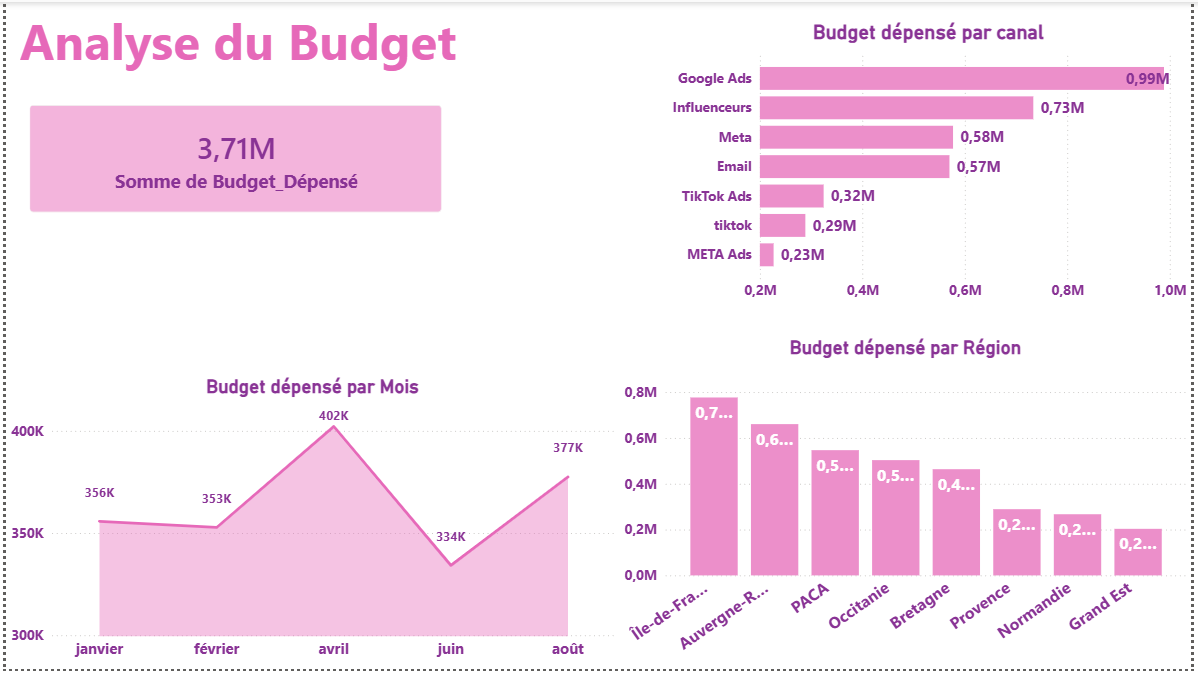

Layout of this report page (visuals, bound fields, positions):
{"tool":"powerbi","page":{"name":"Budget","canvas":[1280,720],"ordinal":2},"visuals":[{"type":"textbox","box":[9.4,0,771,92.6],"z":0},{"type":"cardVisual","fields":{"Data":["Sum(raw_data (2).Budget_Depense)"]},"box":[8.5,93.3,479.5,150.6],"z":1000},{"type":"clusteredBarChart","title":"Budget dépensé par canal","fields":{"Category":["raw_data (2).Canal_Marketing"],"Y":["Sum(raw_data (2).Budget_Dépensé)"]},"box":[712.8,19.1,566.5,311.9],"z":2000},{"type":"treemap","title":"Budget dépensé par Région","fields":{"Group":["raw_data (2).Region"],"Values":["Sum(raw_data (2).Budget_Dépensé)"]},"box":[661.9,360.7,617.4,358.5],"z":3000},{"type":"areaChart","title":"Budget dépensé par Mois","fields":{"Category":["raw_data (2).Date.Variation.Hiérarchie de dates.Mois"],"Y":["Sum(raw_data (2).Budget_Dépensé)"]},"box":[0,403.1,661.9,316.1],"z":4000}]}

Visuals, with their boxes in screenshot pixels (x1, y1, x2, y2), scaled from the page's 1280x720 canvas onto the 1198x673 screenshot:
textbox: rect(9, 0, 730, 87)
cardVisual - Sum(raw_data (2).Budget_Depense): rect(8, 87, 457, 228)
"Budget dépensé par canal" clusteredBarChart: rect(667, 18, 1197, 309)
"Budget dépensé par Région" treemap: rect(619, 337, 1197, 672)
"Budget dépensé par Mois" areaChart: rect(0, 377, 619, 672)
